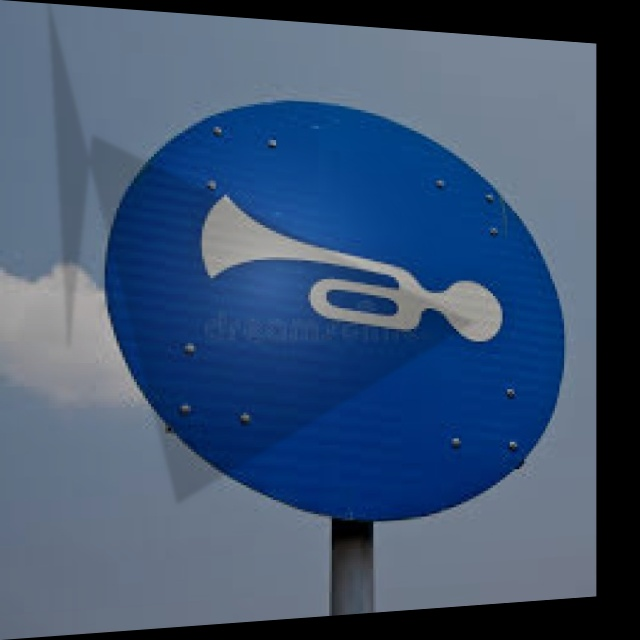Compulsory_Sound_Horn: (114, 90, 558, 522)
